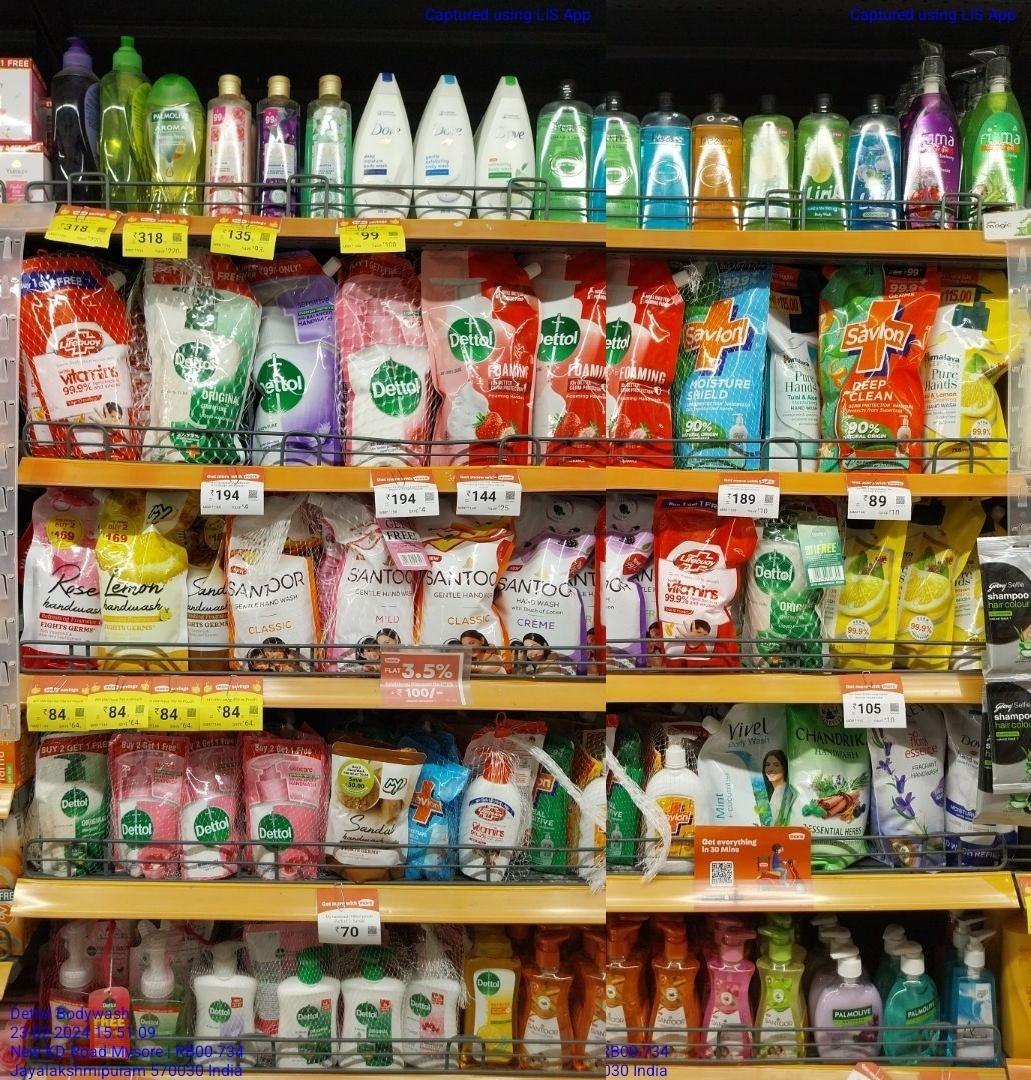Dettol_Bodywash_Refresh: (462, 941, 520, 1068)
Dove_Deep_Moisture_Body_Wash_250ML: (354, 72, 413, 214)
Dove_Gentle_Exfoliating_Body_Wash_250ML: (416, 73, 472, 221)
Dove_Refreshing_Body_Wash_250ML: (474, 72, 534, 219)
Lux_Black_Orchid_Scent_and_Juniper_Oil_Body_Wash_245ML: (254, 73, 301, 216)
Lux_Body_Wash_Skin_Detox_Freesia_Scent_and_Alove_Vera_245ML: (303, 77, 352, 218)
Palmolive_Aroma_Morning_Tonic_Shower_Gel_250ML: (140, 79, 203, 216)
